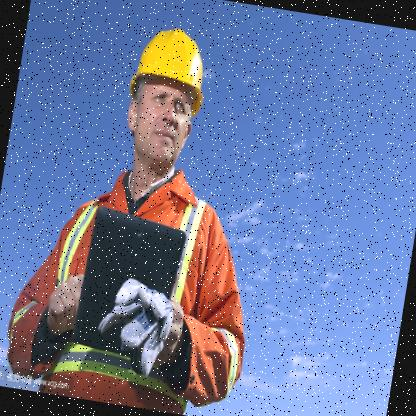capacete: (115, 21, 215, 174)
colete_refletivo: (0, 147, 275, 415)
